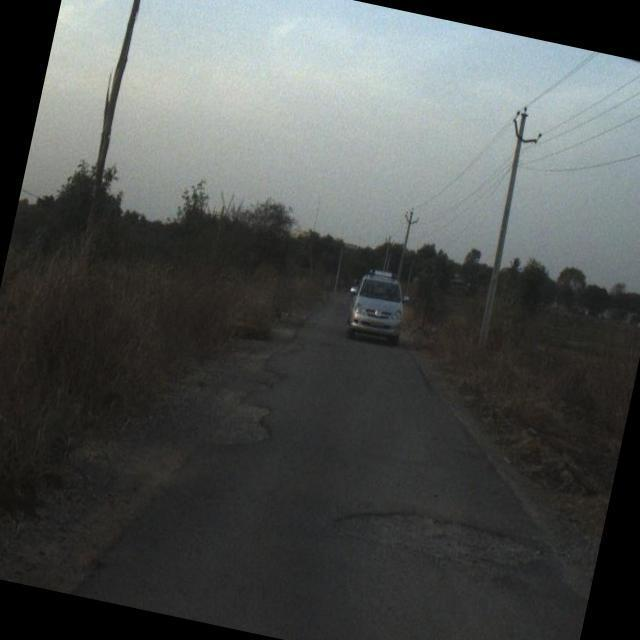Pothole: (326, 510, 549, 586), (212, 404, 268, 446), (257, 370, 281, 387)
